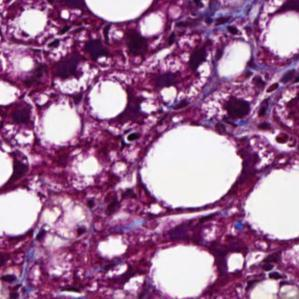inflammation: (145, 42, 221, 90), (246, 79, 299, 146), (247, 259, 293, 283), (0, 269, 30, 299)
